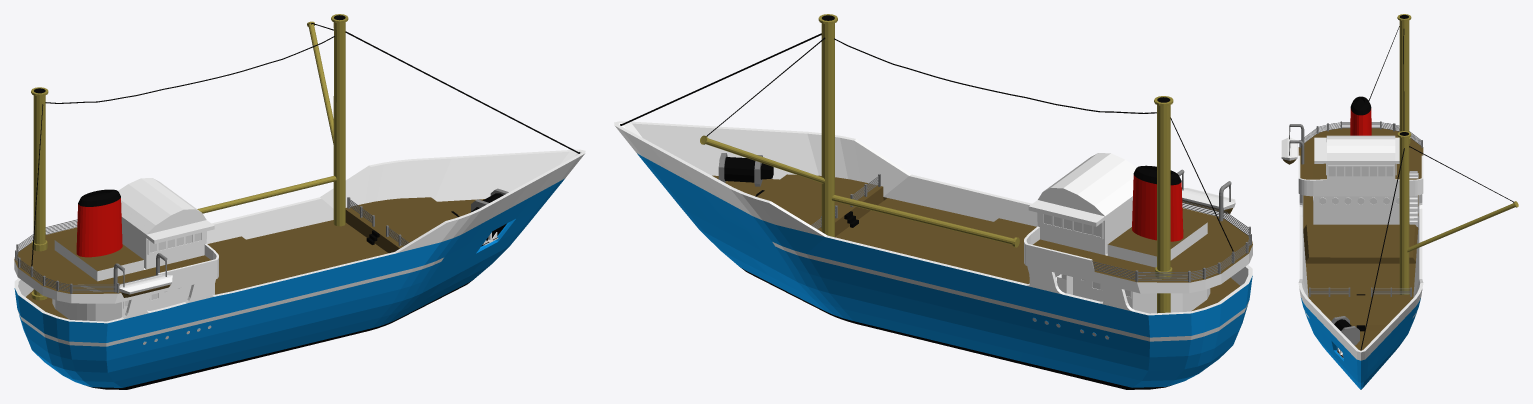
File: Ship.fbx
The picture shows the model from 3 angles, left to right: view 1: azimuth 30°, elevation 25°; view 2: azimuth 150°, elevation 25°; view 3: azimuth 270°, elevation 25°; orthographic projection. The views are drawn at different scales.
Visible parts, largest first — view 1: Ship; view 2: Ship; view 3: Ship.
Boxes of the visible parts, <box> form: Ship: <box>14,14,585,389</box>; Ship: <box>614,14,1252,389</box>; Ship: <box>1281,14,1518,389</box>.
Bounding box in the file's own units: 5462 × 2549 × 2530.
